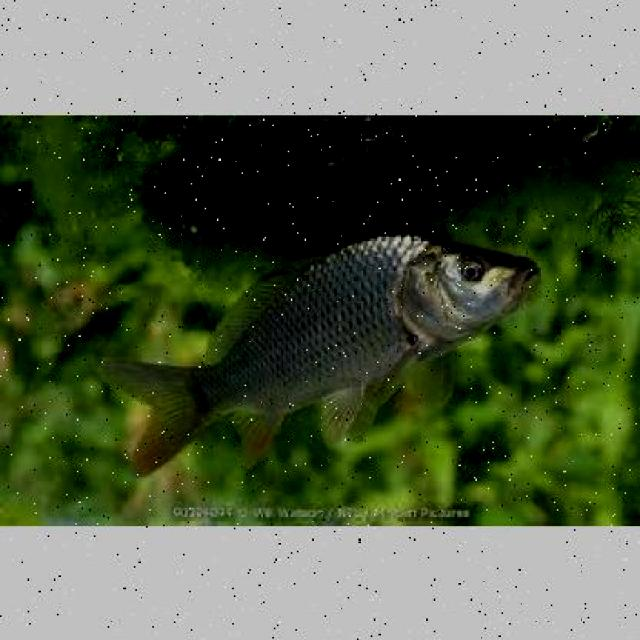ikan-mas: (98, 226, 546, 480)
